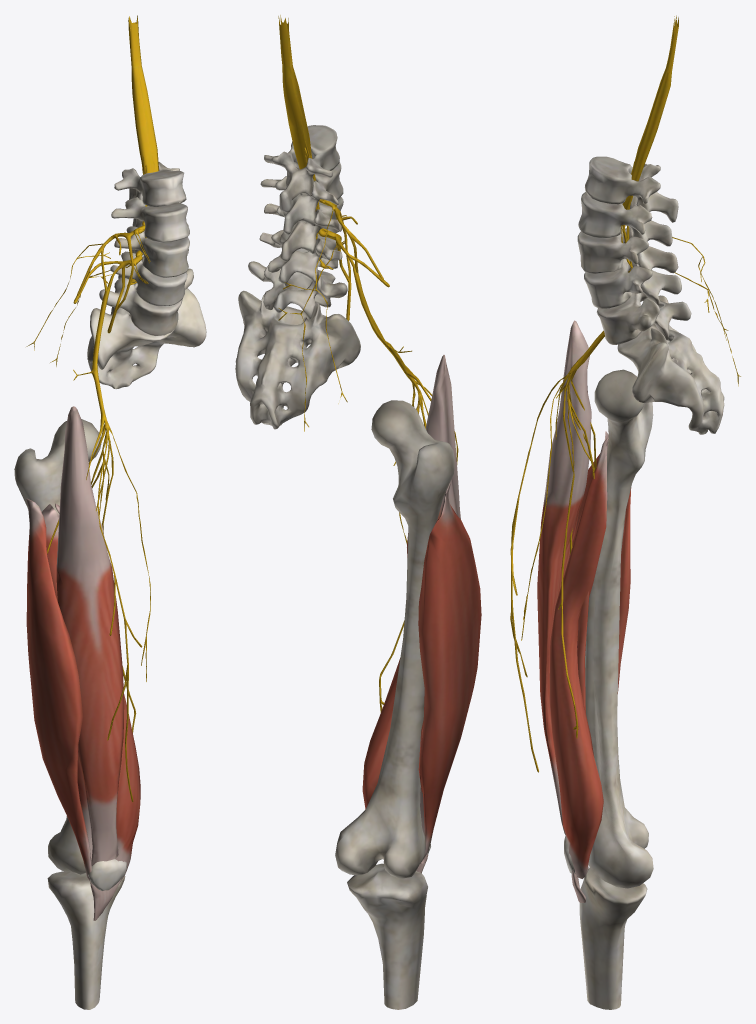
File: knee-jerk.glb
The picture shows the model from 3 angles, left to right: view 1: azimuth 30°, elevation 25°; view 2: azimuth 150°, elevation 25°; view 3: azimuth 270°, elevation 25°; orthographic projection. The views are drawn at different scales.
Visible parts, largest first — view 1: Right_rectus_femoris, Right_vastus_lateralis, Sacrum, Right_tibia, Right_femur, Right_femoral_nerve, Right_vastus_medialis, Spinal_cord, L5_vertebra, L2_vertebra, L1_vertebra, L3_vertebra (+6 smaller); view 2: Right_femur, Right_vastus_lateralis, Sacrum, Right_tibia, L1_vertebra, L5_vertebra, Right_rectus_femoris, Spinal_cord, L4_vertebra, L2_vertebra, L3_vertebra, Right_vastus_medialis (+3 smaller); view 3: Right_femur, Right_vastus_medialis, Right_rectus_femoris, Sacrum, Right_tibia, Right_femoral_nerve, L1_vertebra, L3_vertebra, L5_vertebra, L4_vertebra, L2_vertebra, Spinal_cord (+2 smaller).
Part boxes in pixels (box(x1,y1,x2,y2)): Right_rectus_femoris: box(56, 406, 124, 865); Right_vastus_lateralis: box(26, 498, 91, 881); Sacrum: box(87, 288, 206, 389); Right_tibia: box(47, 871, 125, 1009); Right_femur: box(14, 419, 101, 874); Right_femoral_nerve: box(47, 286, 150, 802); Right_vastus_medialis: box(55, 503, 140, 872); Spinal_cord: box(128, 15, 158, 173); L5_vertebra: box(99, 268, 193, 335); L2_vertebra: box(111, 197, 189, 242); L1_vertebra: box(114, 162, 186, 206); L3_vertebra: box(114, 223, 189, 277); Right_femur: box(335, 400, 454, 878); Right_vastus_lateralis: box(418, 483, 481, 859); Sacrum: box(235, 290, 360, 429); Right_tibia: box(347, 863, 427, 1009); L1_vertebra: box(264, 125, 339, 212); L5_vertebra: box(248, 261, 347, 319); Right_rectus_femoris: box(426, 355, 460, 519); Spinal_cord: box(278, 15, 310, 169); L4_vertebra: box(259, 230, 342, 283); L2_vertebra: box(260, 162, 343, 234); L3_vertebra: box(264, 197, 343, 261); Right_vastus_medialis: box(362, 533, 408, 809); Right_femur: box(585, 369, 653, 888); Right_vastus_medialis: box(549, 437, 608, 878); Right_rectus_femoris: box(537, 320, 591, 835); Sacrum: box(617, 295, 724, 434); Right_tibia: box(579, 867, 647, 1009); Right_femoral_nerve: box(510, 270, 629, 772); L1_vertebra: box(584, 156, 678, 222); L3_vertebra: box(577, 226, 678, 273); L5_vertebra: box(596, 292, 691, 344); L4_vertebra: box(584, 258, 681, 308); L2_vertebra: box(578, 192, 672, 246); Spinal_cord: box(623, 15, 678, 209).
Size of the model in its own units: 0.2076 by 0.9644 by 0.1965.
21 materials, 21 textured.
